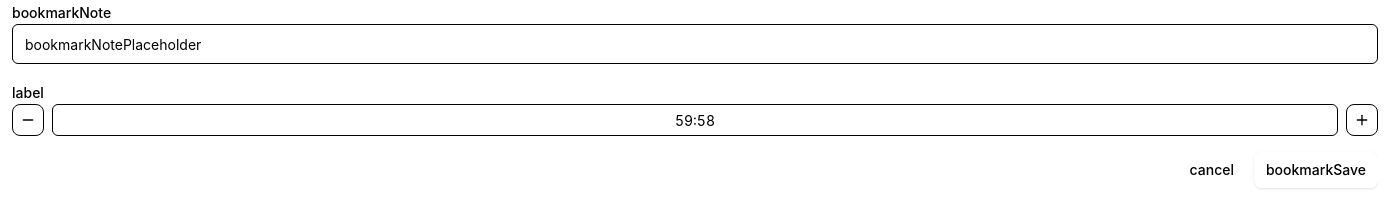
Test: BookmarkForm › clamps stepping at the audiobook duration
What coordinates should you click on to do the following:
click the button named "addSeconds({\"seconds\":5})"
I would click on:
 (1362, 120)
Its box is 1346,104 -> 1378,136.
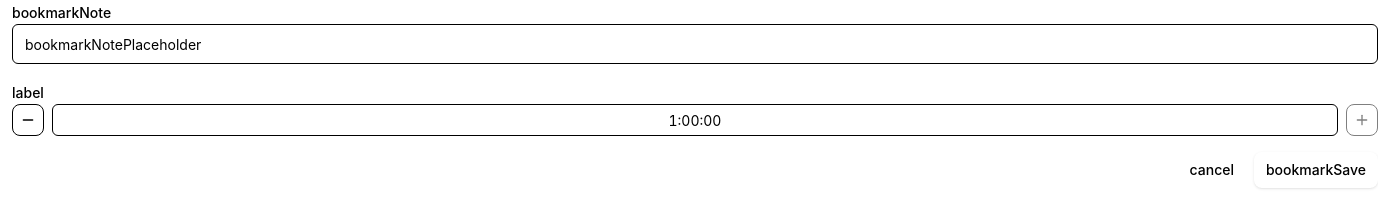
Check: the field labelled "label" holds "1:00:00", box 52,104 -> 1338,136
